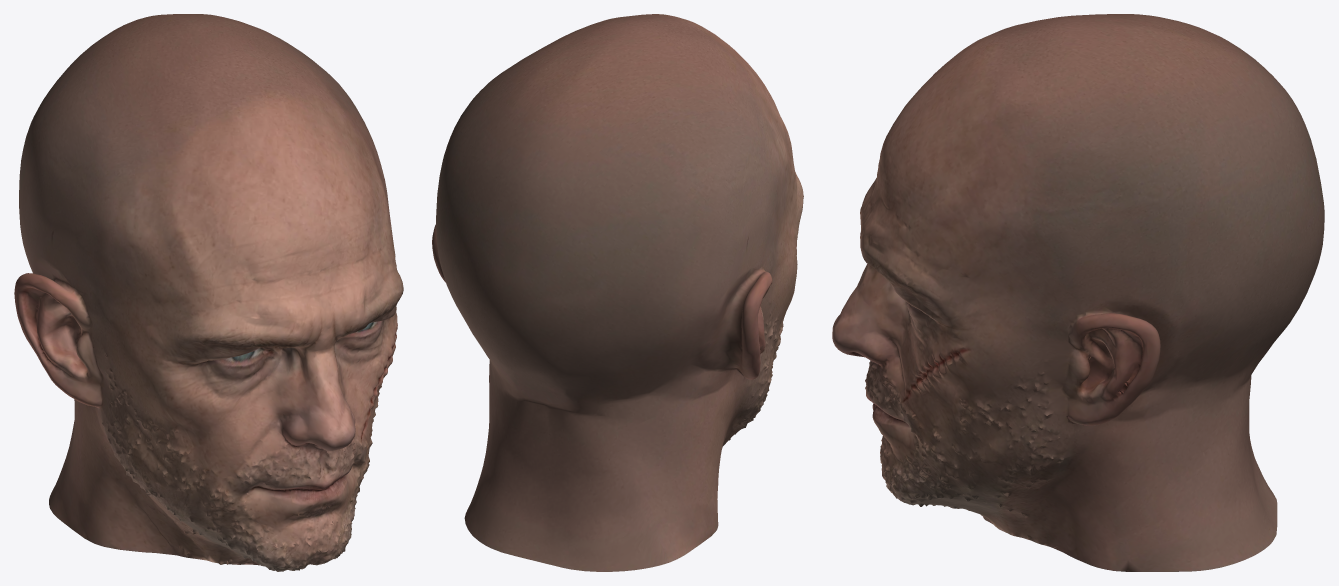
Rendered from head_30k.glb.
3 renders of one model, left to right at view 1: azimuth 30°, elevation 25°; view 2: azimuth 150°, elevation 25°; view 3: azimuth 270°, elevation 25°, orthographic. The views are drawn at different scales.
Visible parts, largest first — view 1: mesh_node_Default; view 2: mesh_node_Default; view 3: mesh_node_Default.
Part boxes in pixels (x1,y1,x2,y2): mesh_node_Default: (14, 14, 403, 571); mesh_node_Default: (432, 14, 803, 571); mesh_node_Default: (832, 14, 1324, 571).
Bounding box in the file's own units: 0.9991 × 1.37 × 1.24.
Materials: 1 (1 with a texture image).
